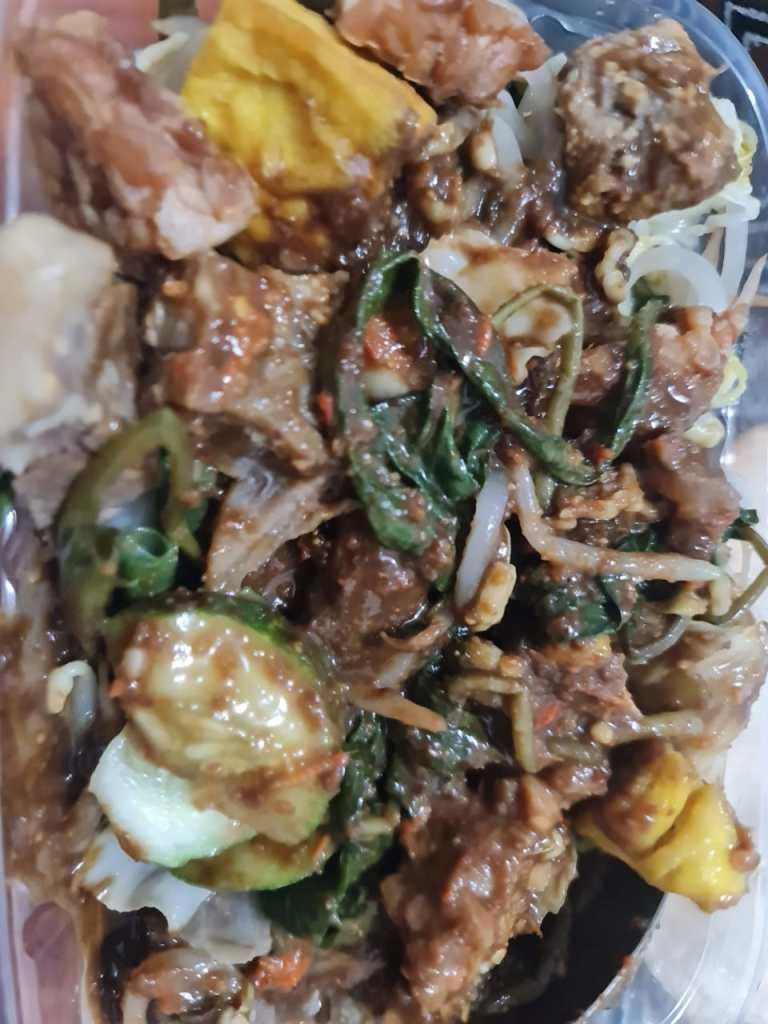rujak_cingur: (2, 4, 768, 1023)
